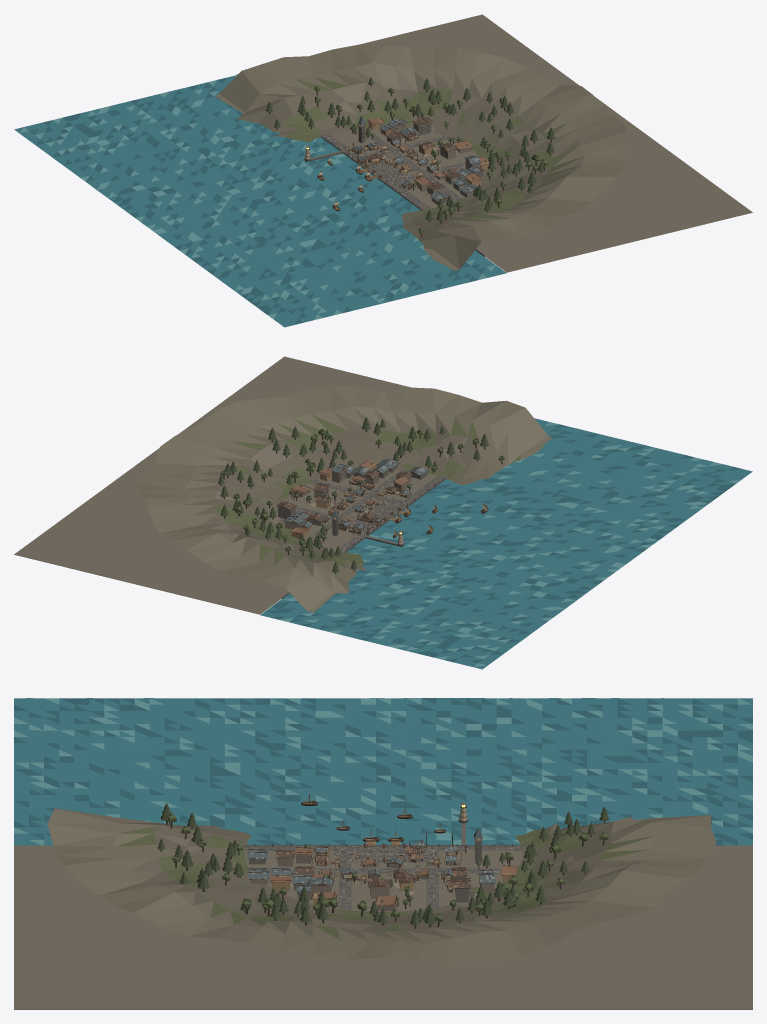
File: kikoto.glb
3 views of the same model, one above another, from view 1: azimuth 30°, elevation 25°; view 2: azimuth 150°, elevation 25°; view 3: azimuth 270°, elevation 25° (orthographic). The views are drawn at different scales.
Visible parts, largest first — view 1: batch_water, batch_hill_far, batch_earth, batch_hill, batch_water_dark, batch_water_light, batch_scrub, batch_leaf_dark, batch_stone, batch_stone_dark, batch_wood_dark, batch_slate_blue (+6 smaller); view 2: batch_water, batch_hill_far, batch_earth, batch_hill, batch_water_dark, batch_water_light, batch_scrub, batch_leaf_dark, batch_stone, batch_stone_dark, batch_wood_dark, batch_slate_blue (+6 smaller); view 3: batch_water, batch_earth, batch_hill_far, batch_water_dark, batch_hill, batch_water_light, batch_leaf_dark, batch_scrub, batch_stone, batch_stone_dark, batch_wood_dark, batch_slate_blue (+9 smaller).
Boxes of the visible parts, x1,y1,x2,y2 form: batch_water: (14, 75, 506, 327); batch_hill_far: (215, 44, 625, 270); batch_earth: (236, 14, 752, 272); batch_hill: (237, 68, 580, 240); batch_water_dark: (29, 77, 485, 324); batch_water_light: (20, 80, 495, 319); batch_scrub: (282, 77, 583, 249); batch_leaf_dark: (265, 77, 555, 229); batch_stone: (306, 119, 486, 255); batch_stone_dark: (304, 118, 485, 256); batch_wood_dark: (305, 117, 488, 212); batch_slate_blue: (353, 117, 484, 200); batch_water: (260, 418, 752, 669); batch_hill_far: (137, 385, 551, 612); batch_earth: (14, 356, 467, 614); batch_hill: (186, 407, 508, 592); batch_water_dark: (266, 424, 742, 662); batch_water_light: (280, 422, 741, 666); batch_scrub: (214, 414, 521, 567); batch_leaf_dark: (218, 417, 503, 572); batch_stone: (281, 463, 446, 597); batch_stone_dark: (281, 462, 446, 598); batch_wood_dark: (276, 459, 488, 549); batch_slate_blue: (283, 459, 428, 529); batch_water: (14, 698, 752, 845); batch_earth: (14, 833, 752, 1009); batch_hill_far: (47, 808, 716, 963); batch_water_dark: (14, 698, 752, 845); batch_hill: (119, 818, 649, 943); batch_water_light: (14, 698, 752, 845); batch_leaf_dark: (157, 803, 609, 925); batch_scrub: (114, 825, 654, 940); batch_stone: (241, 823, 526, 910); batch_stone_dark: (241, 819, 526, 910); batch_wood_dark: (247, 794, 530, 906); batch_slate_blue: (247, 828, 495, 892).
Size of the model in its own units: 120 by 8.17 by 120.
